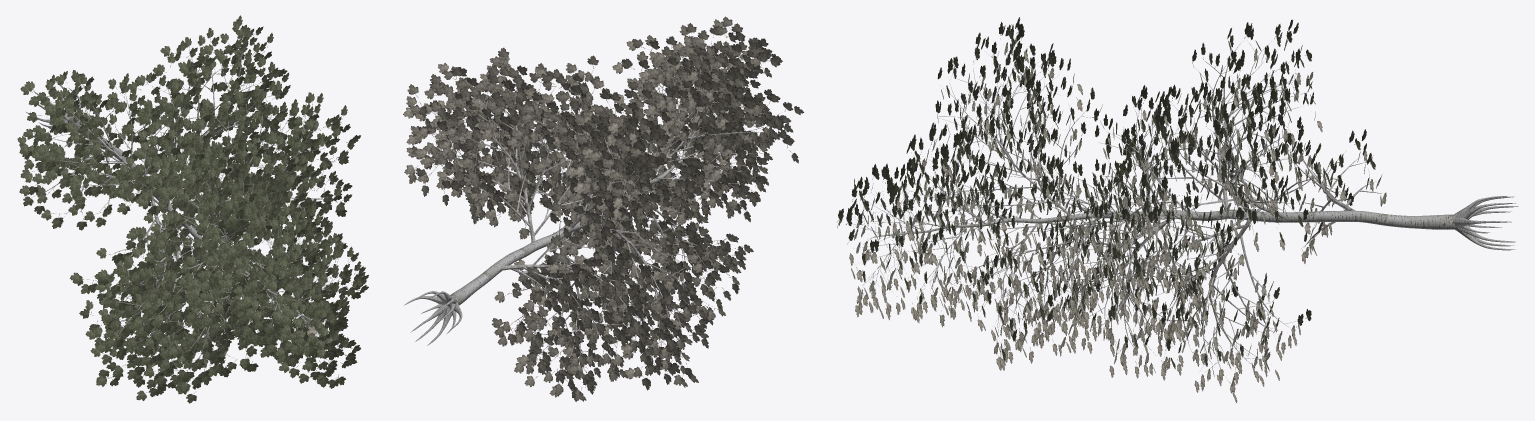
3 views of the same model, side by side, from view 1: azimuth 30°, elevation 25°; view 2: azimuth 150°, elevation 25°; view 3: azimuth 270°, elevation 25° (orthographic). The views are drawn at different scales.
Parts seen in each view (by area): view 1: EU09y; view 2: EU09y; view 3: EU09y.
Part boxes in pixels (box(x1,y1,x2,y2)): EU09y: box(17, 15, 368, 403); EU09y: box(403, 16, 803, 401); EU09y: box(837, 17, 1518, 402).
Bounding box in the file's own units: 40.73 × 41.66 × 73.12.
Materials: 4 (4 with a texture image).
